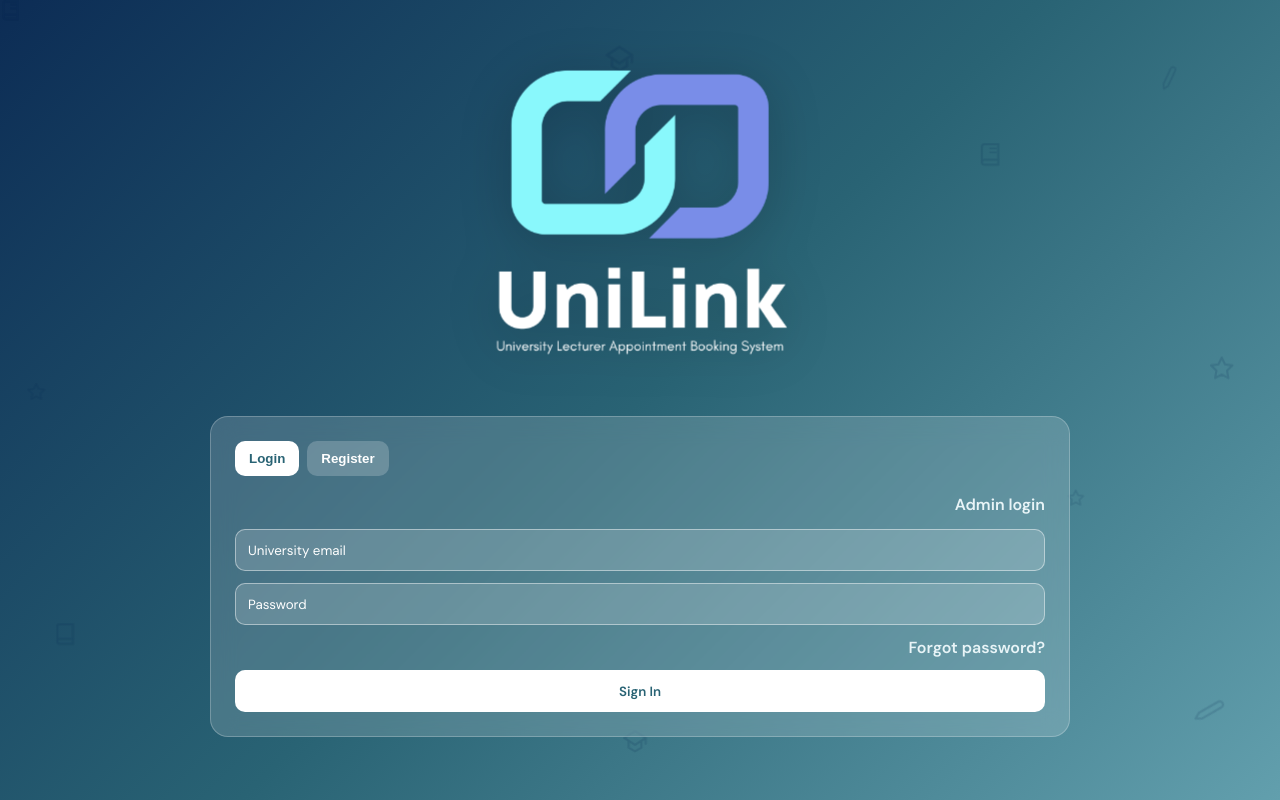
Test: User Login and Registration › should login a student successfully
The width and height of the screenshot is (1280, 800).
In the field with placeholder "University email": (640, 550) left=235, top=529, right=1045, bottom=571, type "student.cypress@unilink.edu"
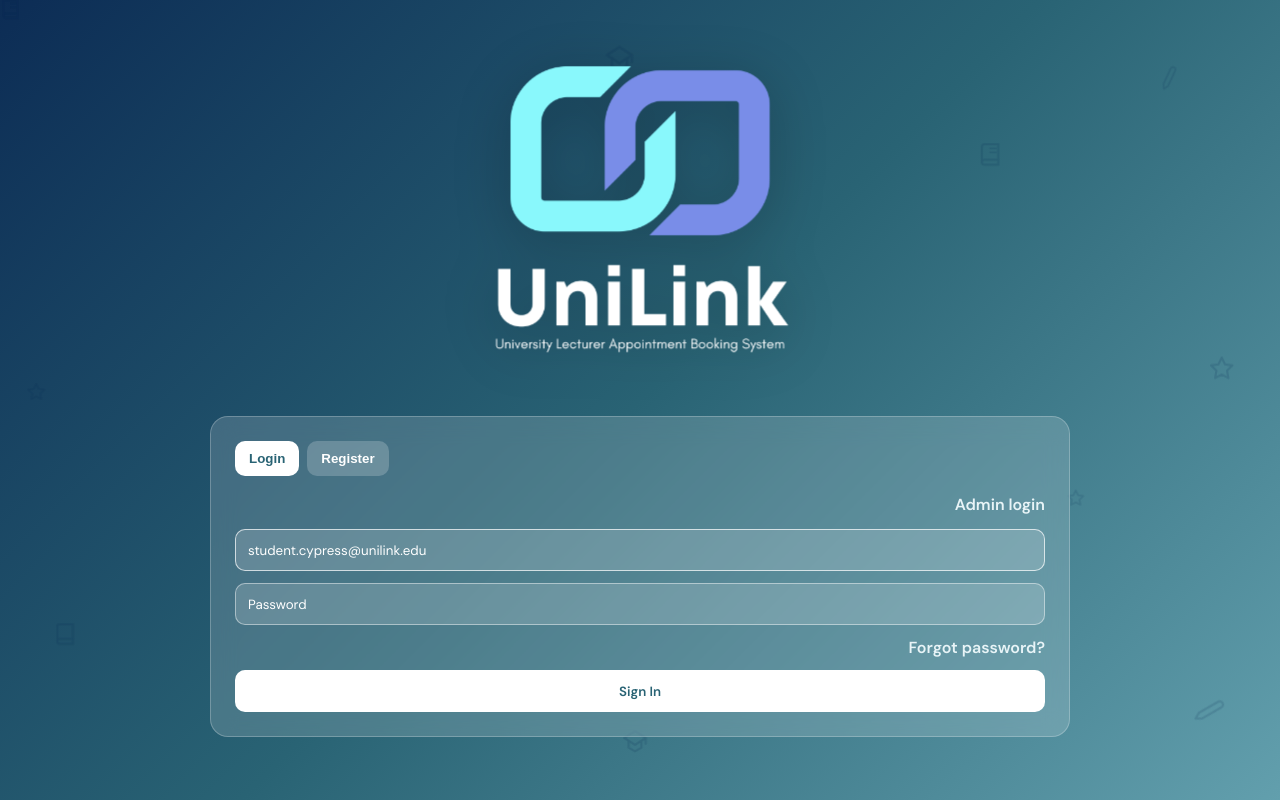
In the password field with placeholder "Password": (640, 604) left=235, top=583, right=1045, bottom=625, type "Student@123"
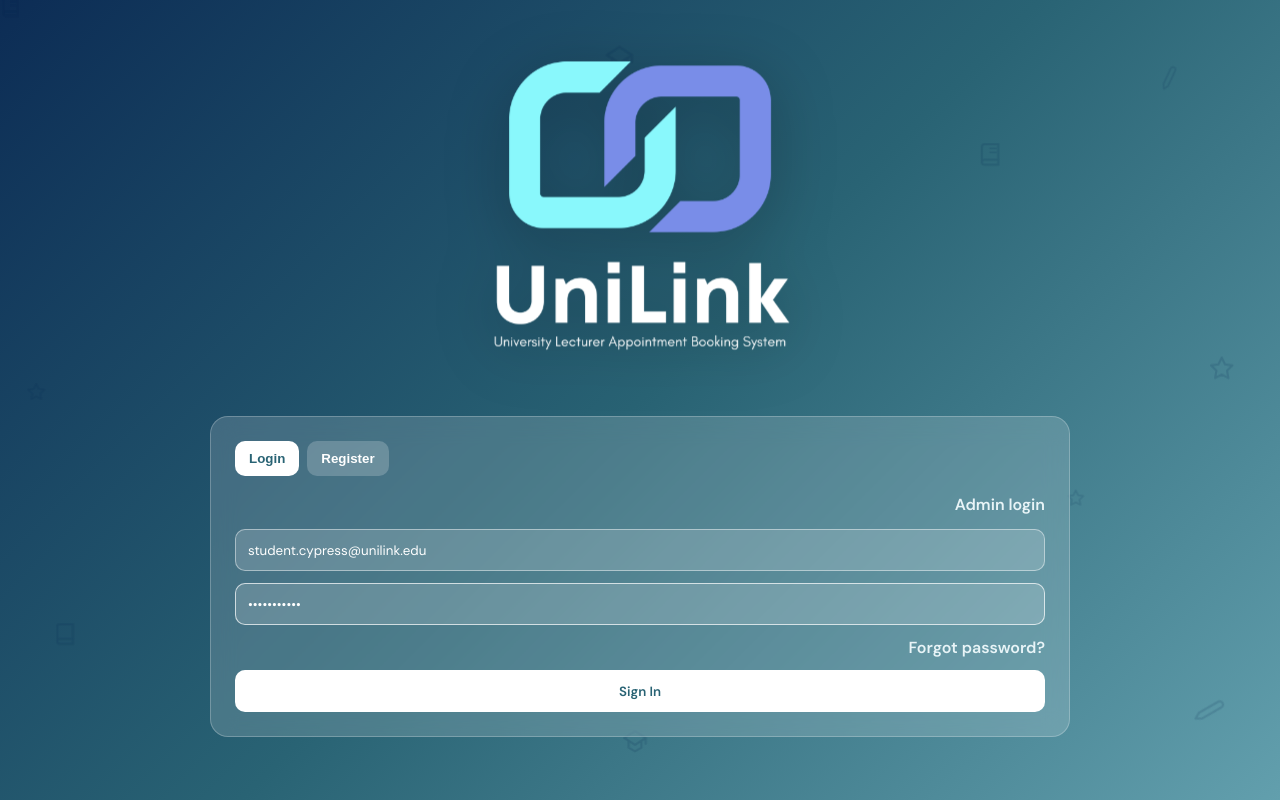
Click the button "Sign In": (640, 691) left=235, top=670, right=1045, bottom=712
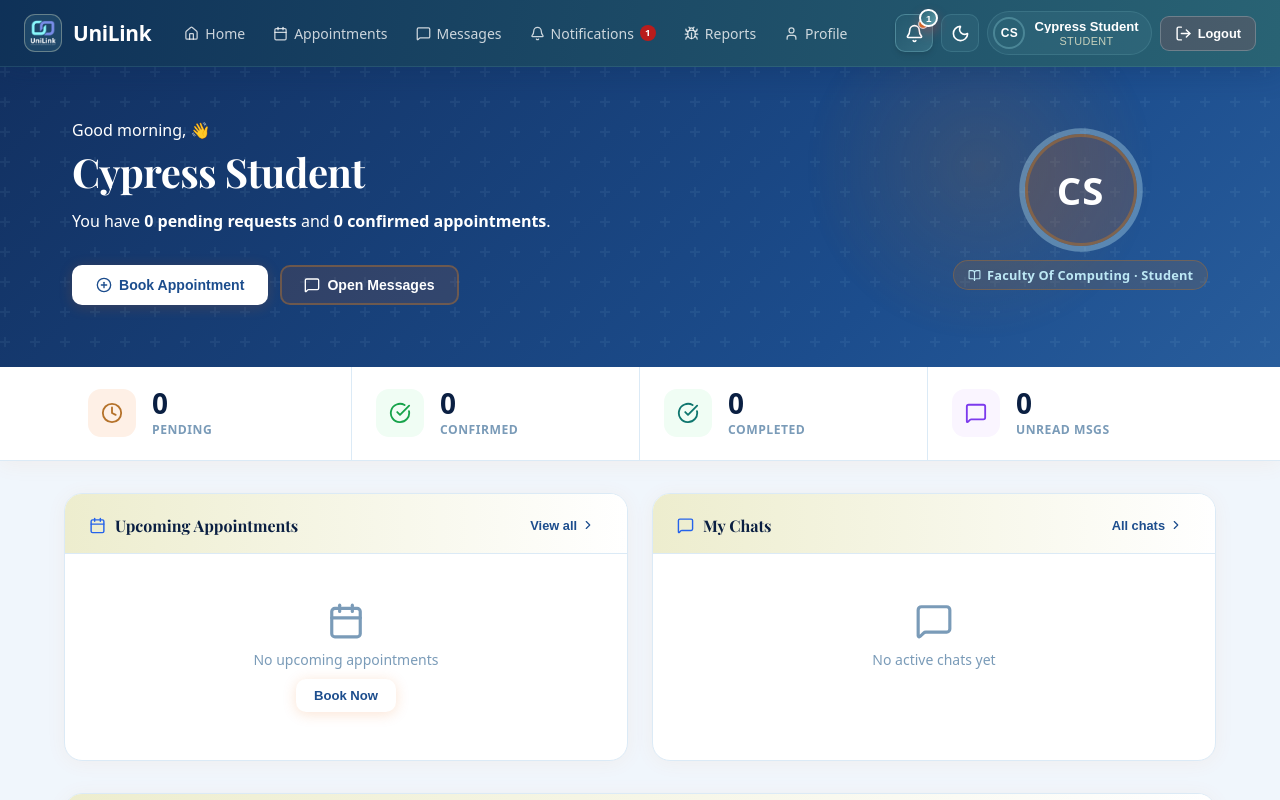
Result: the heading "My Chats" is shown at left=677, top=515, right=772, bottom=536
